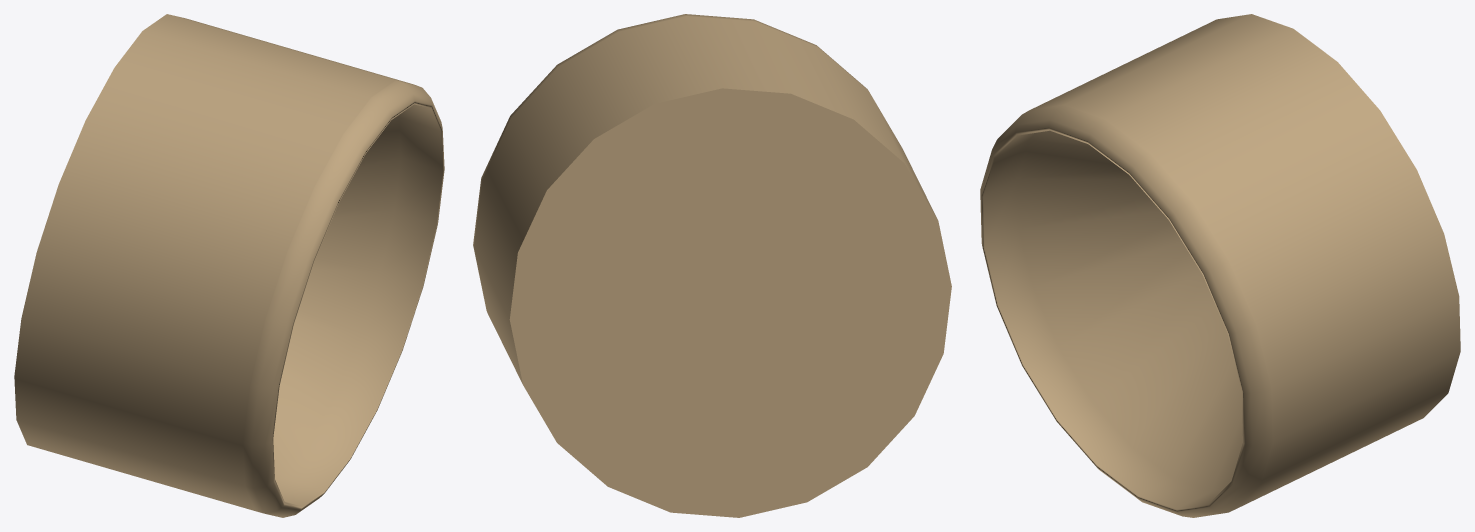
Rendered from BR3_8shapes_Round_Classic_Metal.001 2.glb.
3 views of the same model, side by side, from view 1: azimuth 30°, elevation 25°; view 2: azimuth 150°, elevation 25°; view 3: azimuth 270°, elevation 25° (orthographic). The views are drawn at different scales.
Visible parts, largest first — view 1: BR3_8shapes_Round_Classic_Metal.001; view 2: BR3_8shapes_Round_Classic_Metal.001; view 3: BR3_8shapes_Round_Classic_Metal.001.
Boxes of the visible parts, bbox=[...] form: BR3_8shapes_Round_Classic_Metal.001: bbox=[14, 14, 444, 517]; BR3_8shapes_Round_Classic_Metal.001: bbox=[473, 14, 951, 517]; BR3_8shapes_Round_Classic_Metal.001: bbox=[980, 14, 1460, 517].
Bounding box in the file's own units: 0.6183 × 0.576 × 0.5829.
